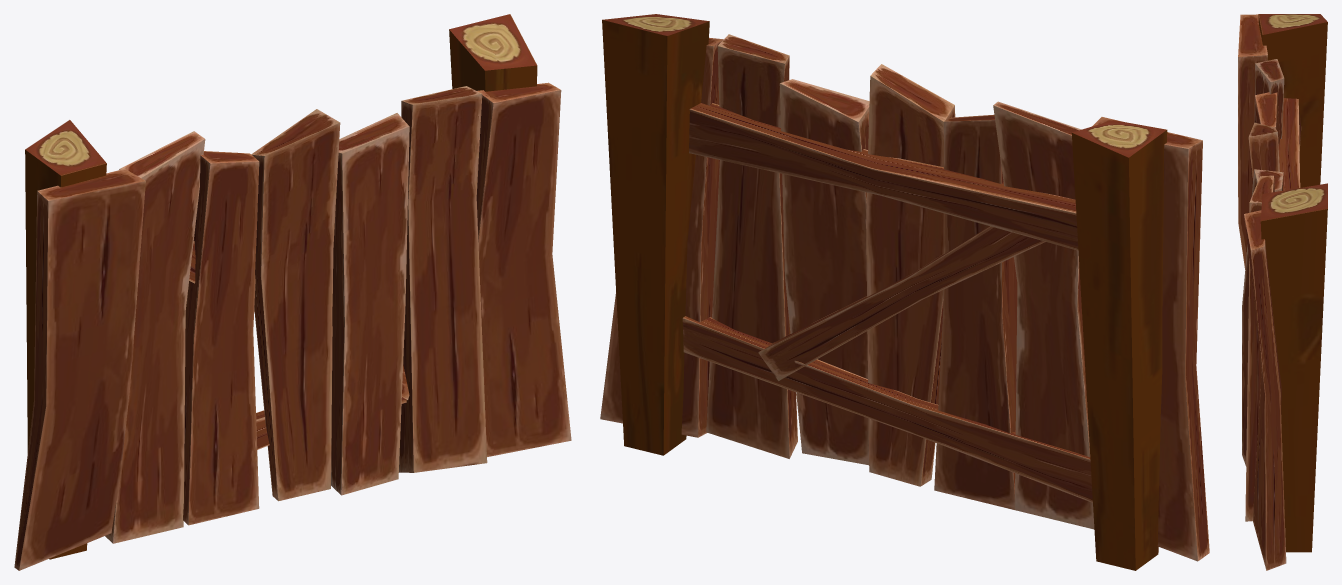
File: SM_PROP_fence_v01_01.glb
3 renders of one model, left to right at view 1: azimuth 30°, elevation 25°; view 2: azimuth 150°, elevation 25°; view 3: azimuth 270°, elevation 25°, orthographic. The views are drawn at different scales.
Parts seen in each view (by area): view 1: SM_PROP_fence_v01_01_EXPORT; view 2: SM_PROP_fence_v01_01_EXPORT; view 3: SM_PROP_fence_v01_01_EXPORT.
Boxes of the visible parts, x1,y1,x2,y2 form: SM_PROP_fence_v01_01_EXPORT: (14, 14, 571, 570); SM_PROP_fence_v01_01_EXPORT: (600, 14, 1209, 570); SM_PROP_fence_v01_01_EXPORT: (1238, 14, 1327, 570).
Bounding box in the file's own units: 2.86 × 2.01 × 0.4643.
Materials: 3 (3 with a texture image).
